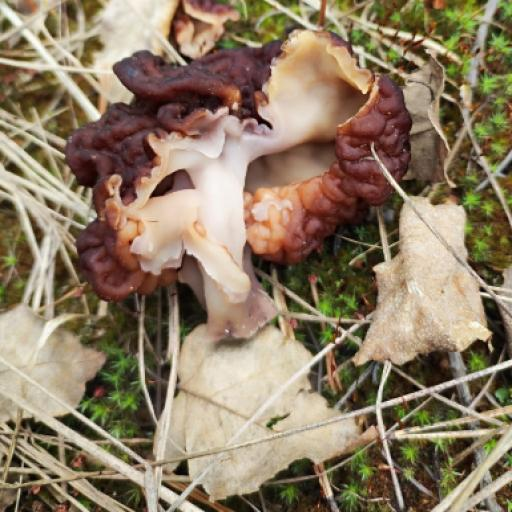mushroom: (59, 29, 425, 318)
